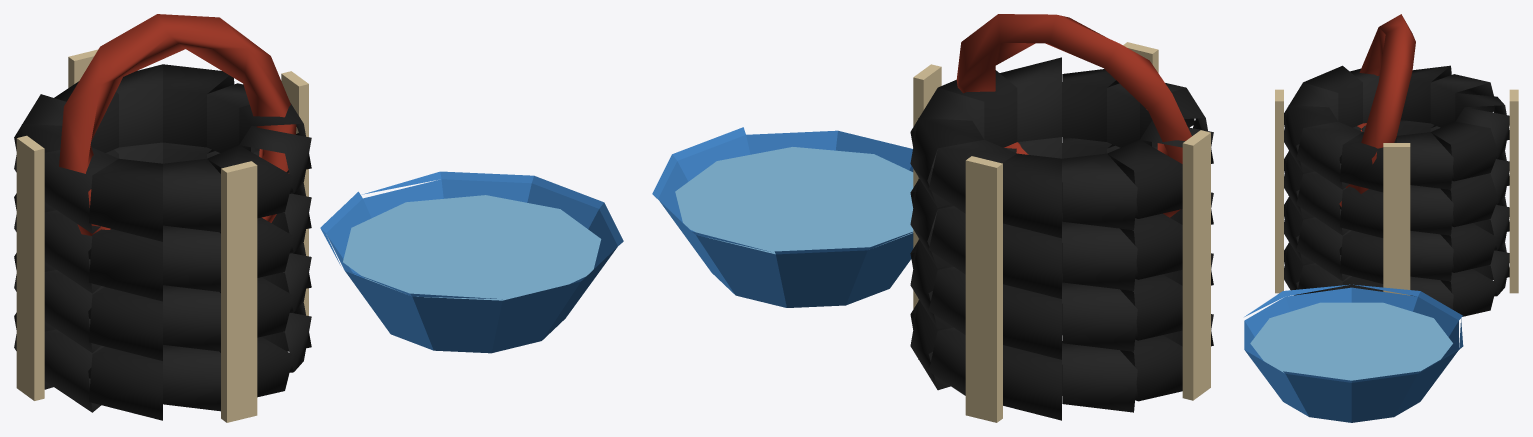
File: hang_lop.glb
The picture shows the model from 3 angles, left to right: view 1: azimuth 30°, elevation 25°; view 2: azimuth 150°, elevation 25°; view 3: azimuth 270°, elevation 25°; orthographic projection. The views are drawn at different scales.
Parts seen in each view (by area): view 1: chong_lop_moi, thau_nuoc, giay_boc, ruot_xe; view 2: chong_lop_moi, thau_nuoc, giay_boc, ruot_xe; view 3: chong_lop_moi, thau_nuoc, giay_boc, ruot_xe.
Boxes of the visible parts, left/top/right/bottom form: chong_lop_moi: left=14, top=64, right=311, bottom=420; thau_nuoc: left=320, top=171, right=623, bottom=353; giay_boc: left=16, top=49, right=308, bottom=422; ruot_xe: left=59, top=14, right=296, bottom=235; chong_lop_moi: left=910, top=57, right=1213, bottom=420; thau_nuoc: left=652, top=127, right=913, bottom=307; giay_boc: left=913, top=42, right=1210, bottom=422; ruot_xe: left=956, top=14, right=1191, bottom=217; chong_lop_moi: left=1284, top=65, right=1509, bottom=316; thau_nuoc: left=1244, top=284, right=1463, bottom=422; giay_boc: left=1275, top=89, right=1518, bottom=295; ruot_xe: left=1339, top=14, right=1415, bottom=206.
Size of the model in its own units: 1.08 by 0.6445 by 0.6125.
